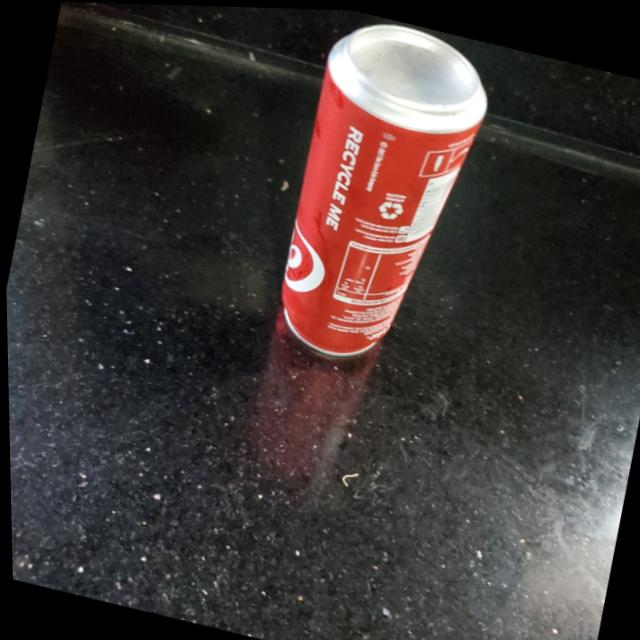coke: (263, 7, 501, 377)
